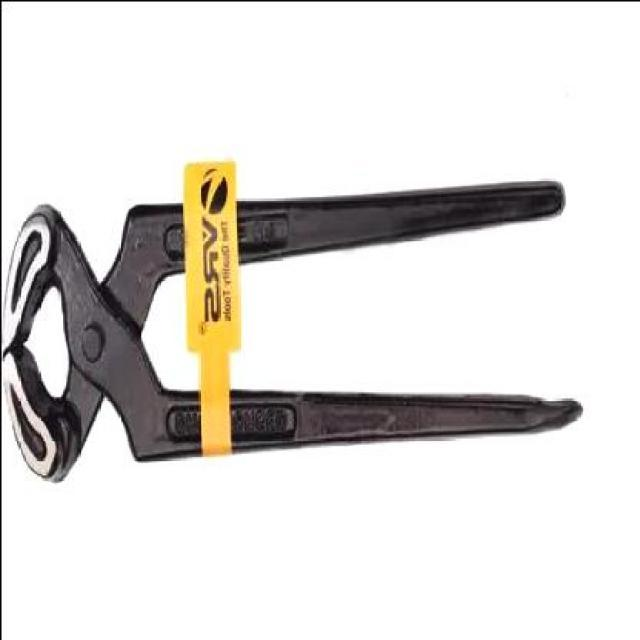pliers: (9, 162, 583, 489)
